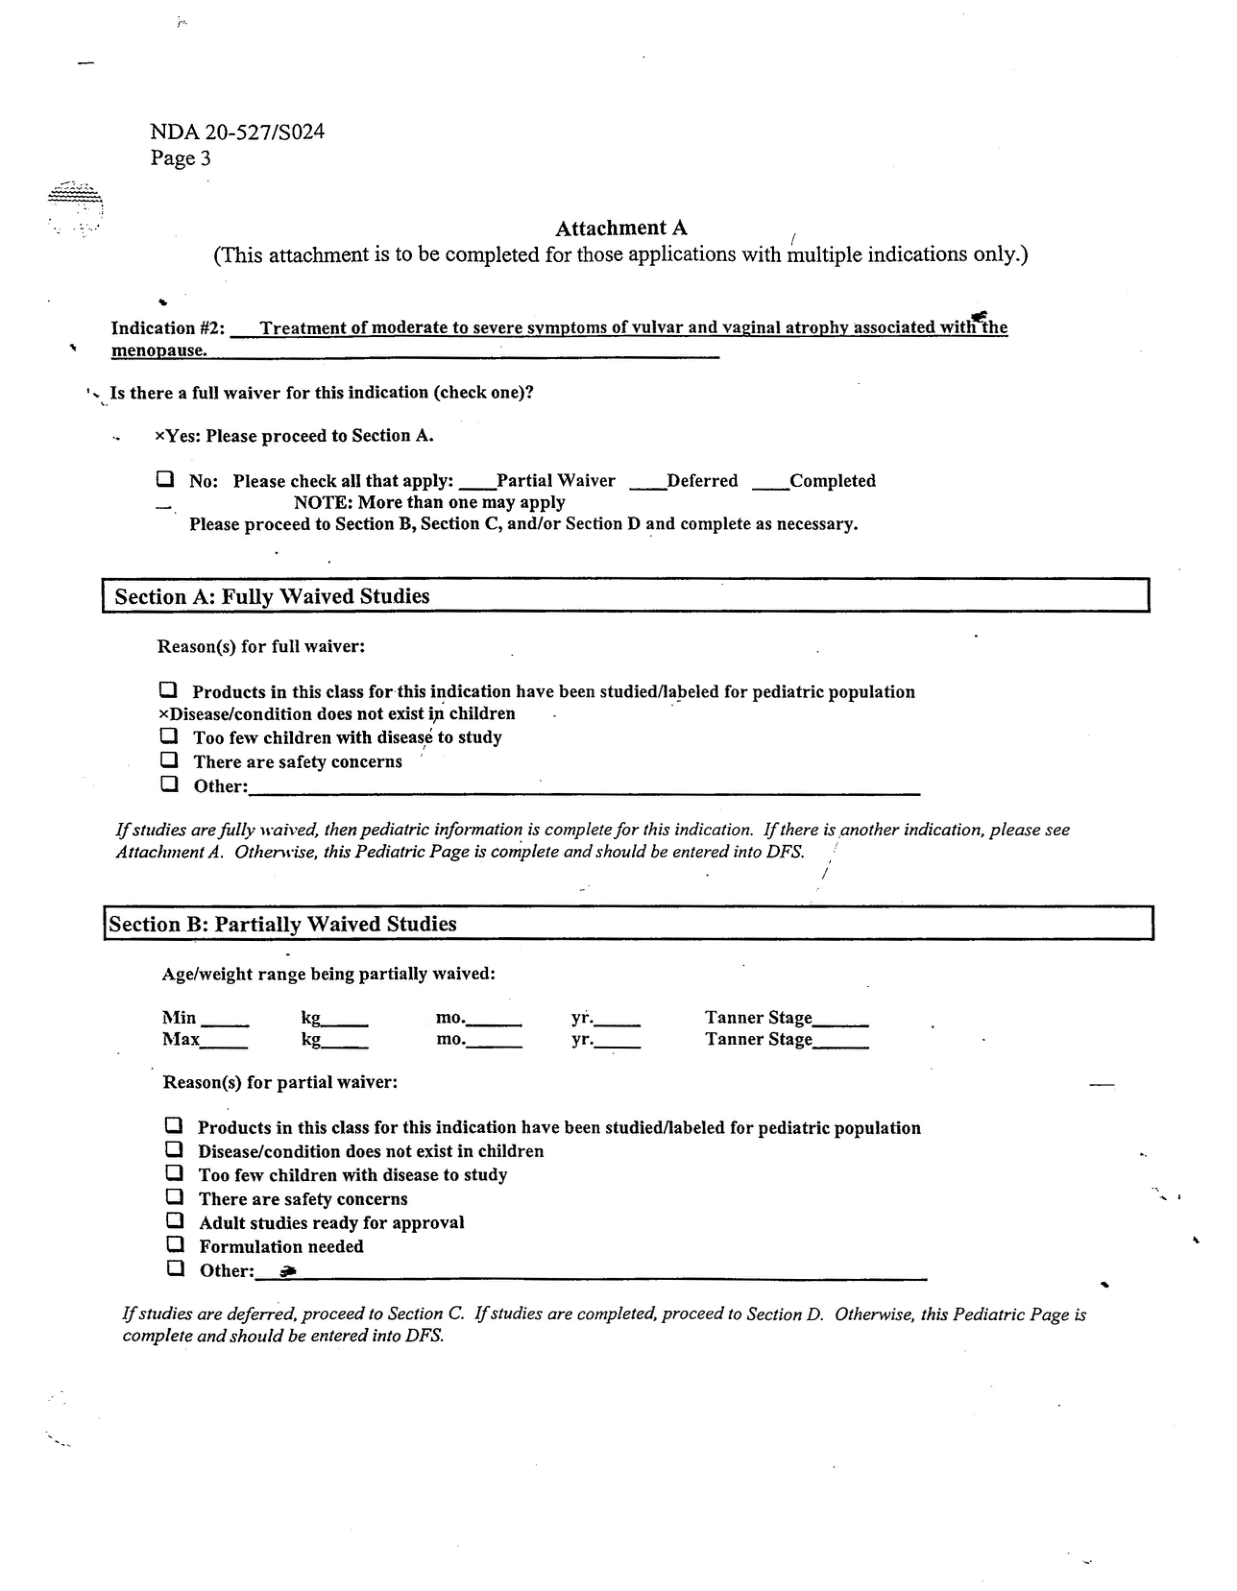nolines: (163, 1007, 869, 1049)
